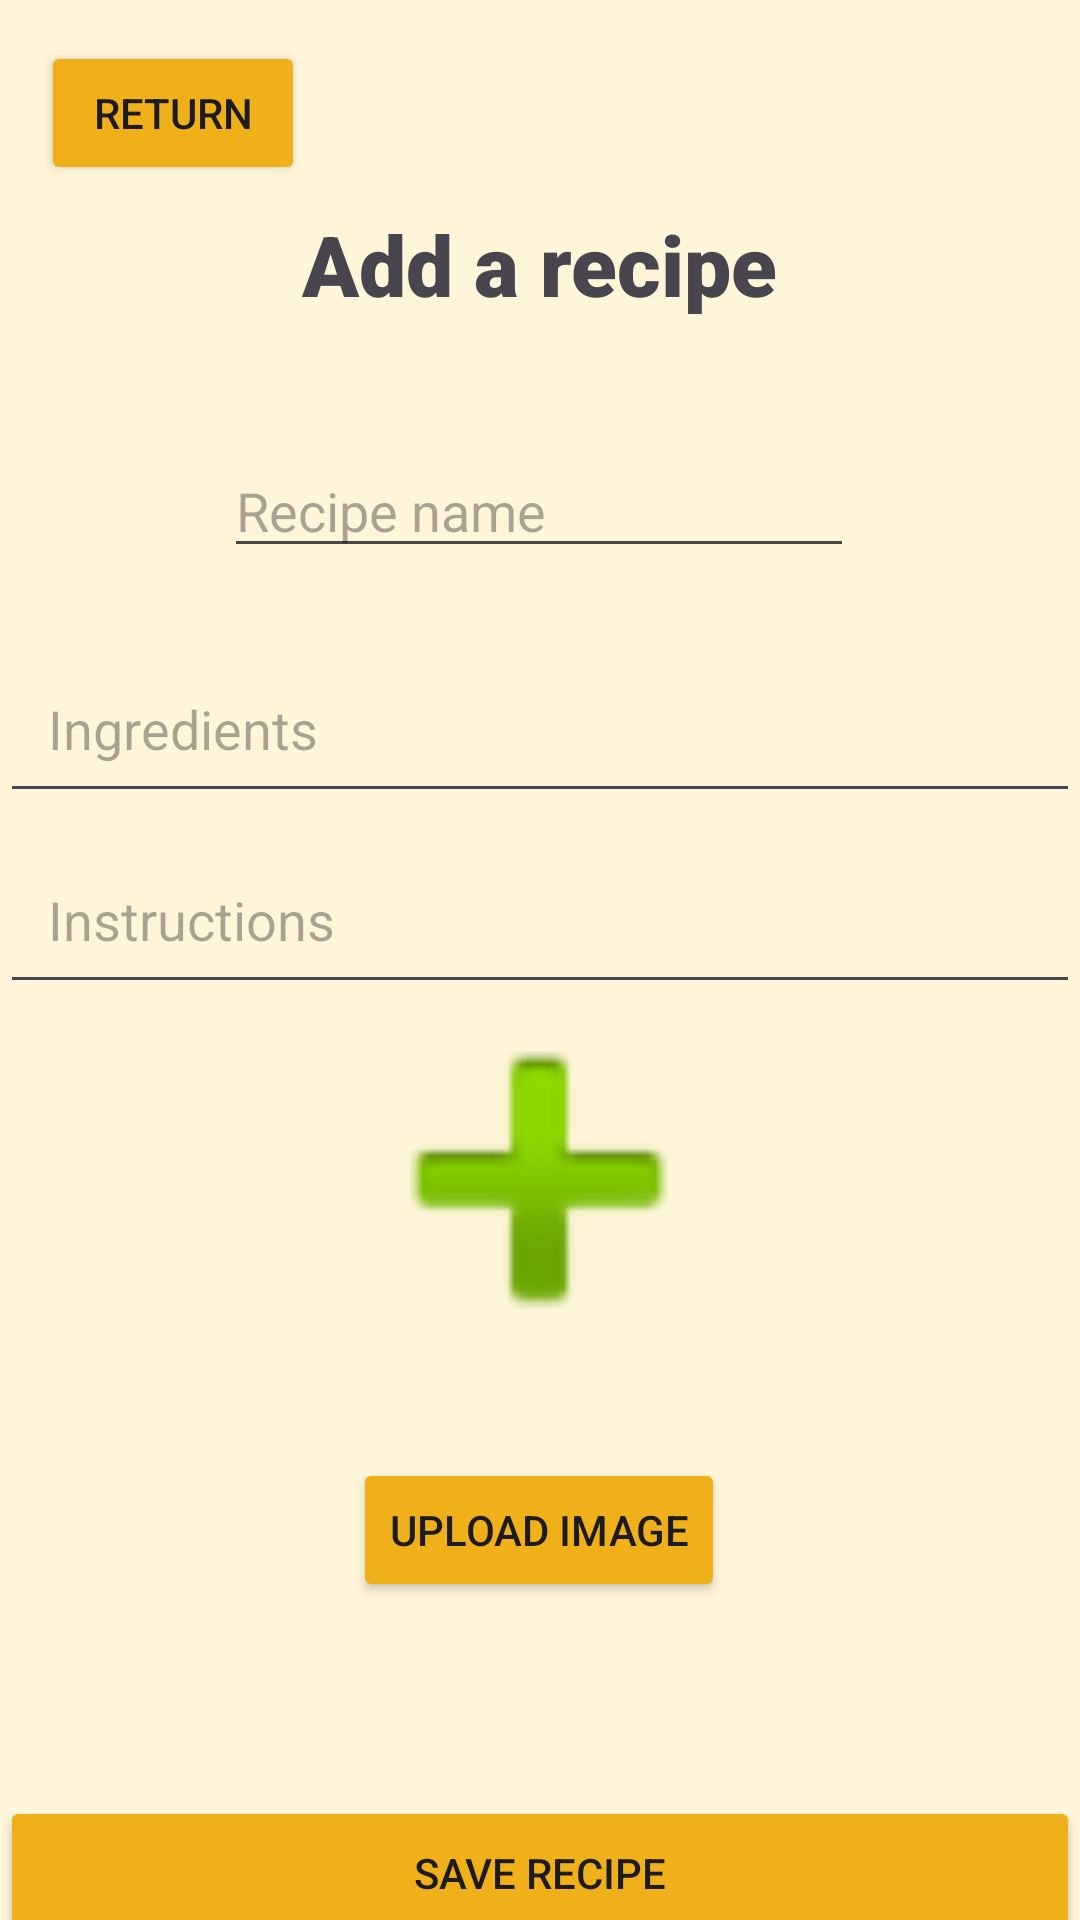

Locate icon controls on the screen. Image size 1080 × 1920, boxes as (x1,y1,x2,y2).
add: (411,1052,667,1307)
